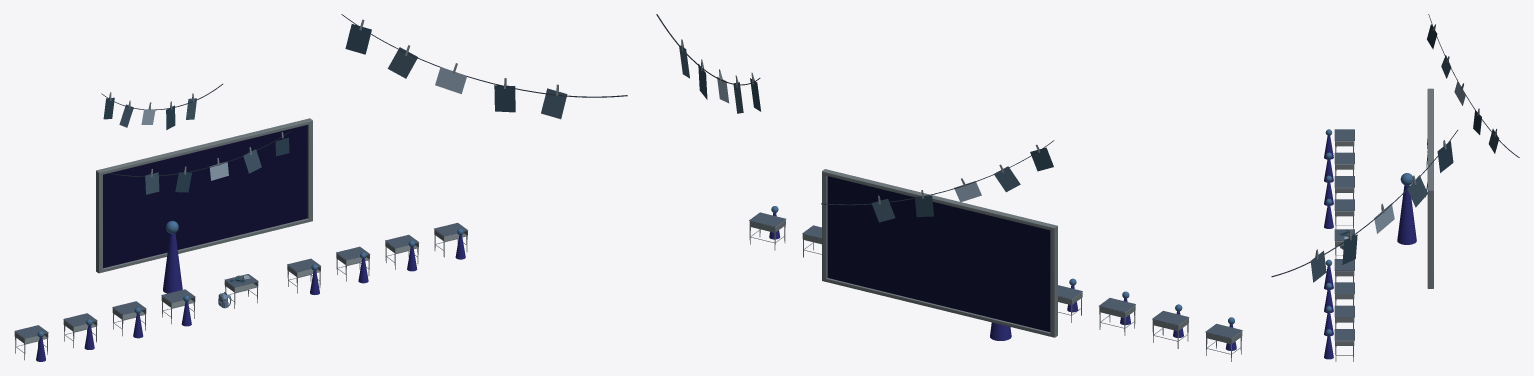
The model's file is schoolScene.fbx.
3 renders of one model, left to right at view 1: azimuth 30°, elevation 25°; view 2: azimuth 150°, elevation 25°; view 3: azimuth 270°, elevation 25°, orthographic. The views are drawn at different scales.
Visible parts, largest first — view 1: chalkboard, adult_body, clothespine_paper5, clothespine_paper2, clothespine_paper3, clothespine_paper1, clothespine_paper4; view 2: chalkboard; view 3: desk_top_part (×8), chalkboard, adult_body, clothespine_paper4, clothespine_paper2, clothespine_paper1, clothespine_paper3, clothespine_paper5, clothesline.
Part boxes in pixels (x1=…): chalkboard: x1=96, y1=118, x2=312, y2=273; adult_body: x1=163, y1=233, x2=182, y2=293; clothespine_paper5: x1=345, y1=24, x2=371, y2=54; clothespine_paper2: x1=494, y1=85, x2=515, y2=112; clothespine_paper3: x1=435, y1=67, x2=466, y2=93; clothespine_paper1: x1=541, y1=88, x2=567, y2=119; clothespine_paper4: x1=387, y1=47, x2=417, y2=78; chalkboard: x1=822, y1=169, x2=1057, y2=337; desk_top_part (×8): x1=1334, y1=129, x2=1354, y2=340; chalkboard: x1=1427, y1=88, x2=1433, y2=288; adult_body: x1=1397, y1=185, x2=1416, y2=244; clothespine_paper4: x1=1407, y1=175, x2=1427, y2=207; clothespine_paper2: x1=1342, y1=234, x2=1357, y2=264; clothespine_paper1: x1=1310, y1=250, x2=1326, y2=282; clothespine_paper3: x1=1374, y1=203, x2=1394, y2=233; clothespine_paper5: x1=1437, y1=141, x2=1453, y2=172; clothesline: x1=1271, y1=130, x2=1457, y2=277.
Size of the model in its own units: 2.36 by 0.8264 by 0.9102.
